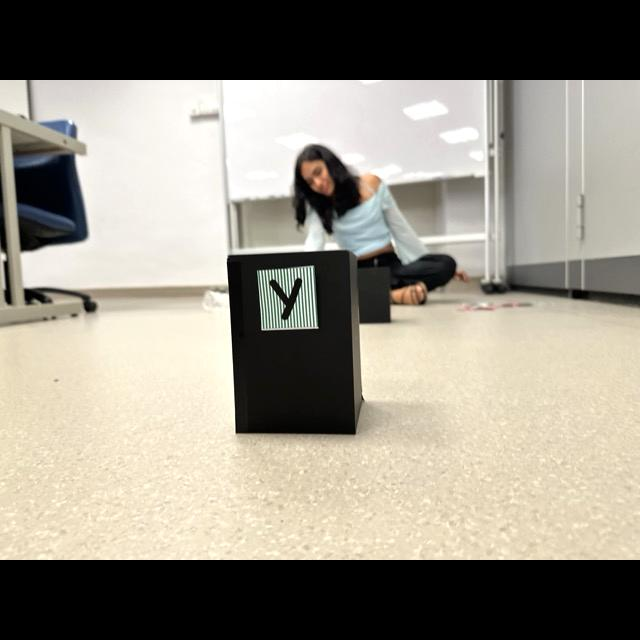Y: (270, 278, 301, 319)
